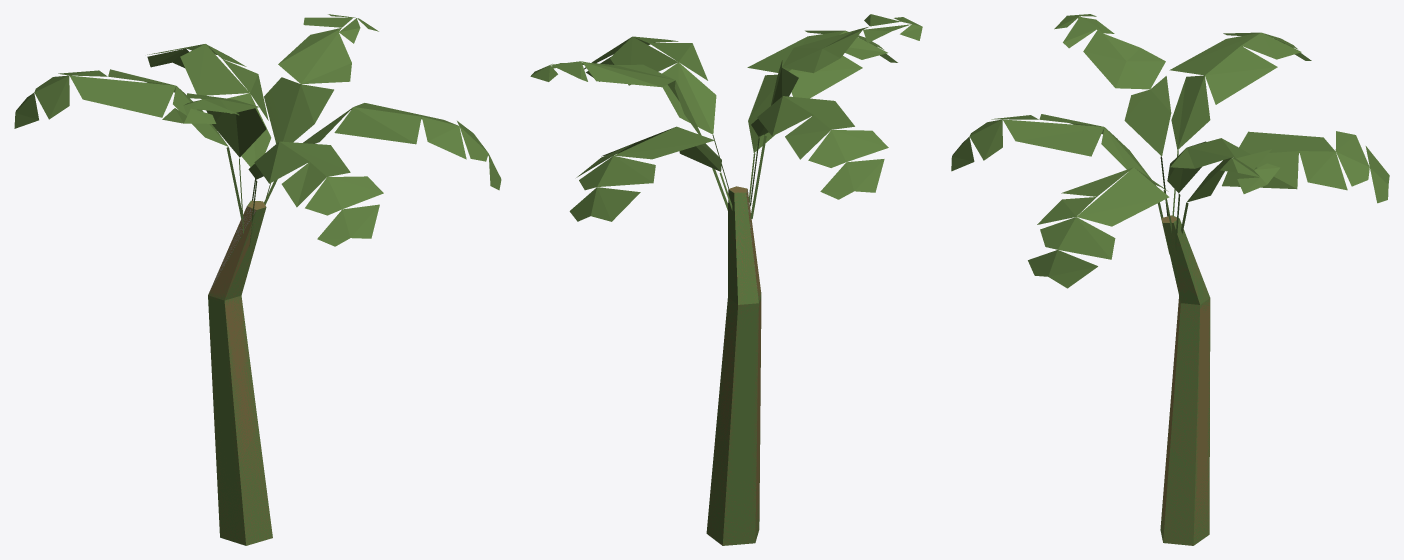
File: Vegetation_Tree_Palm_03.fbx
3 renders of one model, left to right at view 1: azimuth 30°, elevation 25°; view 2: azimuth 150°, elevation 25°; view 3: azimuth 270°, elevation 25°, orthographic. The views are drawn at different scales.
Visible parts, largest first — view 1: Vegetation_Tree_Palm_03; view 2: Vegetation_Tree_Palm_03; view 3: Vegetation_Tree_Palm_03.
Boxes of the visible parts, left/top/right/bottom form: Vegetation_Tree_Palm_03: left=14, top=14, right=501, bottom=545; Vegetation_Tree_Palm_03: left=530, top=14, right=922, bottom=545; Vegetation_Tree_Palm_03: left=951, top=14, right=1389, bottom=545.
Bounding box in the file's own units: 3657 × 4539 × 3849.
